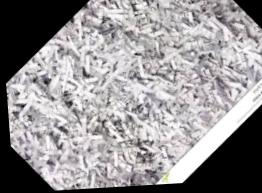paper: (1, 0, 261, 190)
